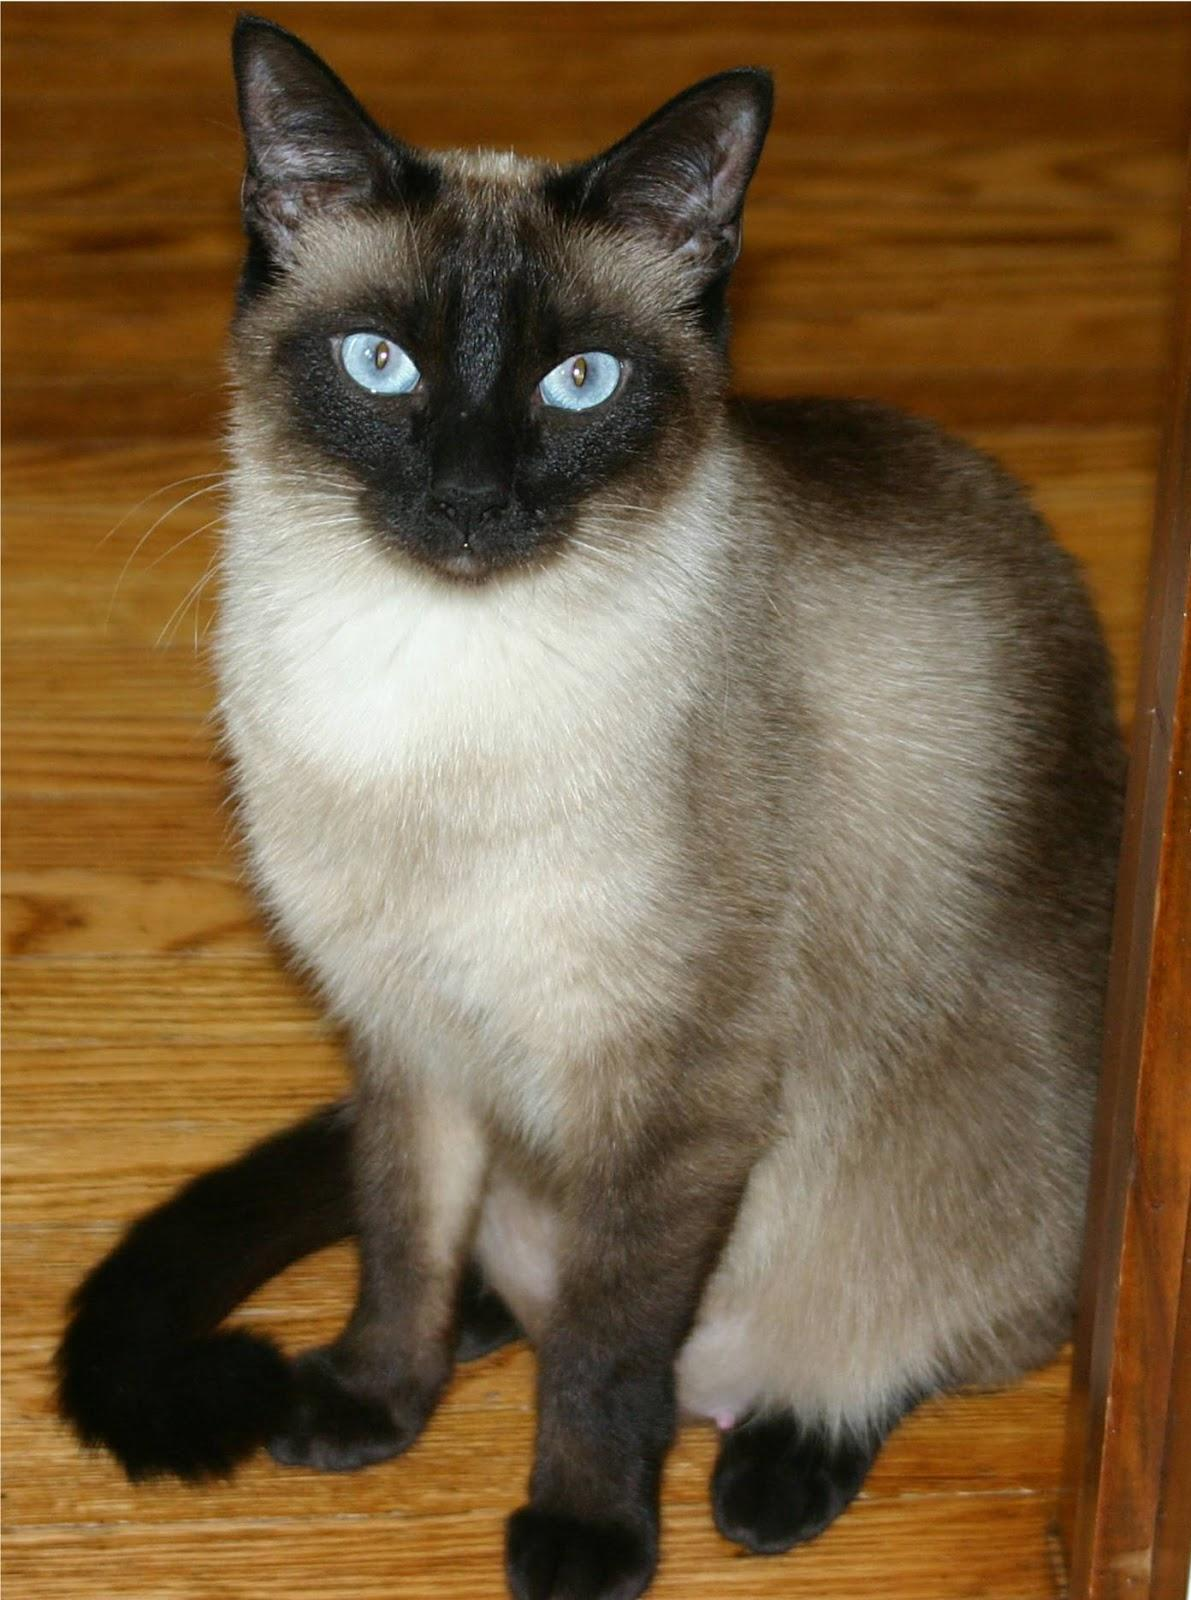siamese: (199, 4, 796, 620)
